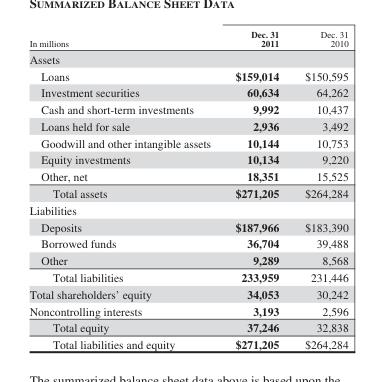table: (28, 28, 347, 350)
table column: (28, 28, 222, 350), (222, 28, 291, 350), (291, 28, 347, 350)
table column header: (28, 28, 347, 50)
table projected row header: (28, 50, 347, 67), (28, 201, 347, 218)
table row: (28, 28, 347, 50), (28, 50, 347, 67), (28, 83, 347, 100), (28, 100, 347, 117), (28, 117, 347, 134), (28, 150, 347, 167), (28, 167, 347, 184), (28, 184, 347, 201), (28, 201, 347, 218), (28, 234, 347, 251), (28, 251, 347, 268), (28, 268, 347, 285), (28, 285, 347, 302), (28, 318, 347, 335), (28, 67, 347, 83), (28, 134, 347, 150), (28, 218, 347, 234), (28, 302, 347, 318), (28, 335, 347, 350)
